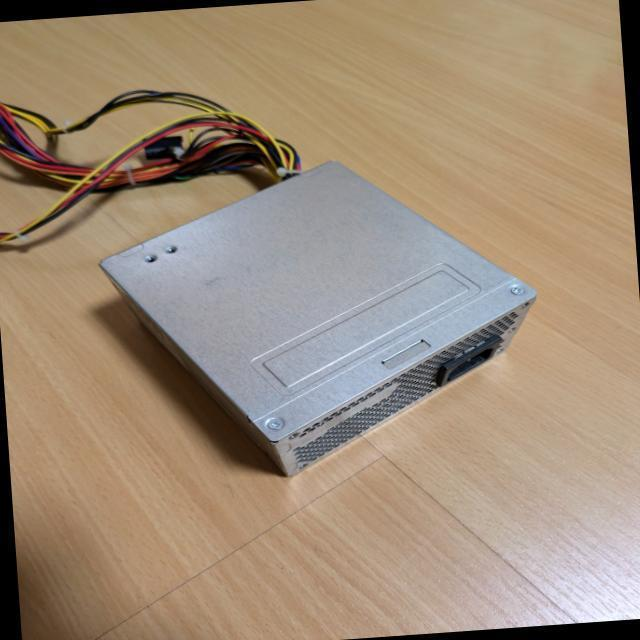PSU: (93, 146, 549, 490)
